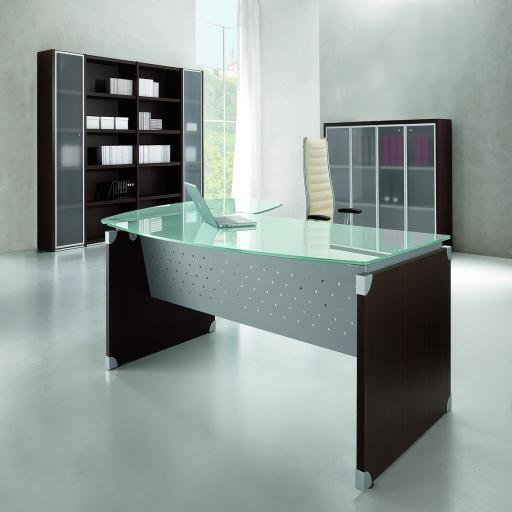chair: (302, 136, 362, 225)
desk: (100, 198, 452, 489)
wall: (319, 0, 512, 258), (0, 0, 195, 254)
